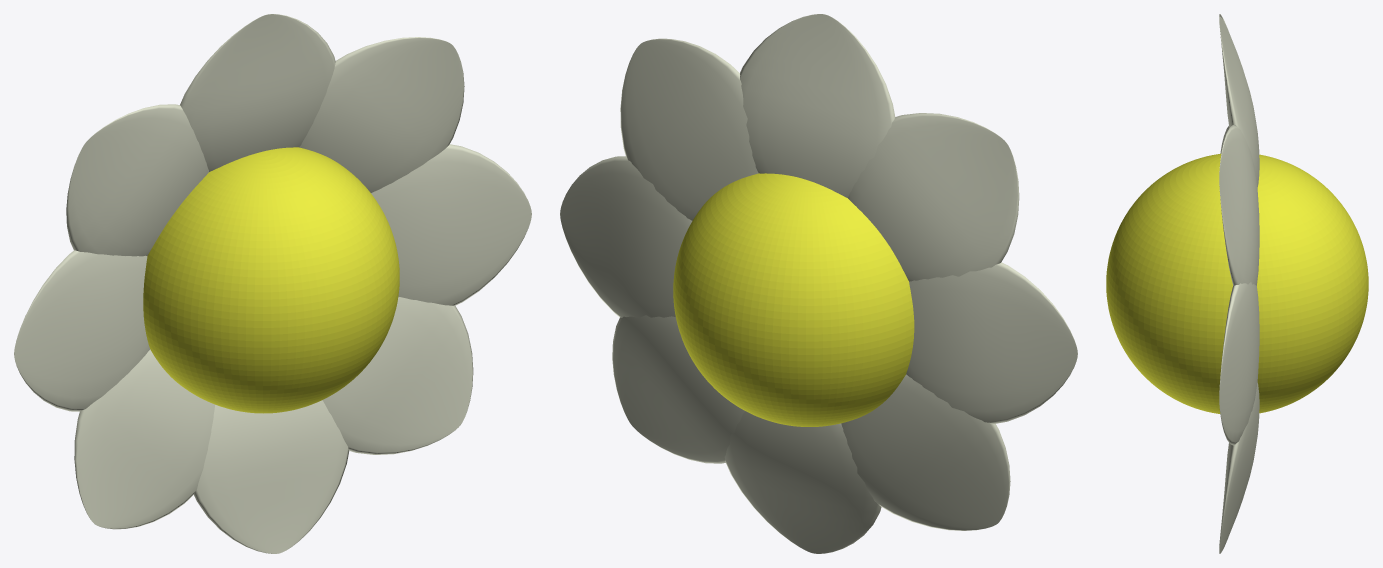
Rendered from easyRouteSun.glb.
The picture shows the model from 3 angles, left to right: view 1: azimuth 30°, elevation 25°; view 2: azimuth 150°, elevation 25°; view 3: azimuth 270°, elevation 25°; orthographic projection. The views are drawn at different scales.
Parts seen in each view (by area): view 1: Head_Vines1_m_Flower_0, Sphere; view 2: Head_Vines1_m_Flower_0, Sphere; view 3: Sphere, Head_Vines1_m_Flower_0.
Boxes of the visible parts, x1,y1,x2,y2 form: Head_Vines1_m_Flower_0: (14,14,531,553); Sphere: (143,147,399,413); Head_Vines1_m_Flower_0: (560,14,1077,553); Sphere: (673,173,914,426); Sphere: (1106,153,1368,413); Head_Vines1_m_Flower_0: (1219,14,1259,553).
Size of the model in its own units: 4.11 by 4.11 by 1.87.
